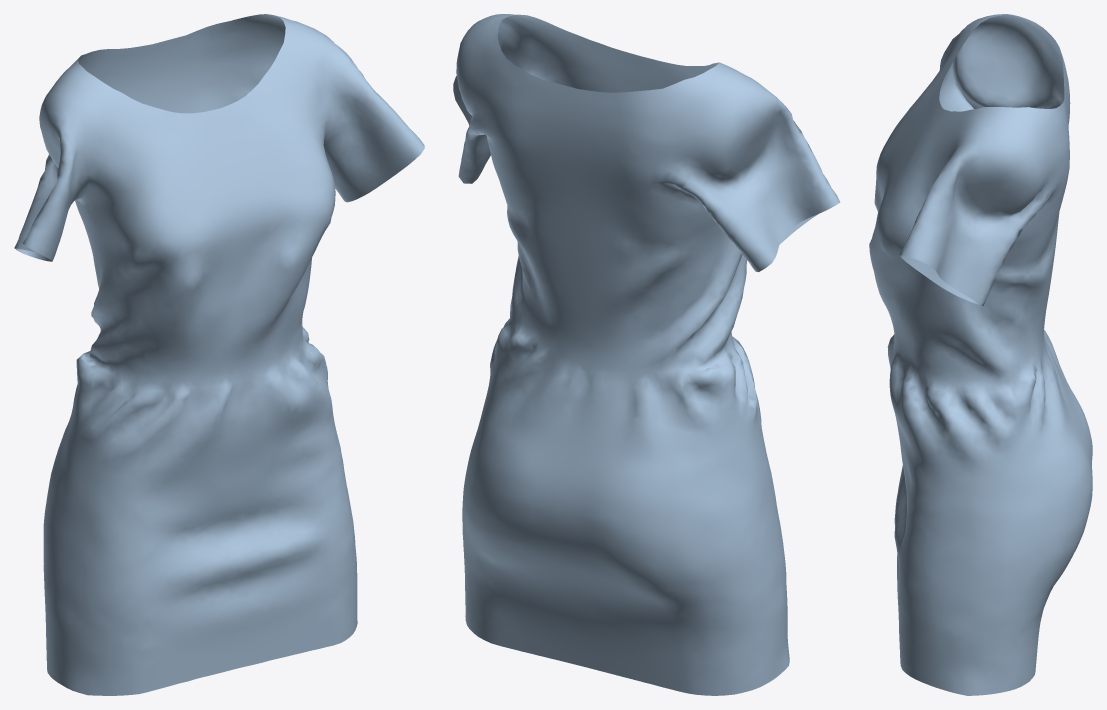
Rendered from dress_XS.glb.
3 views of the same model, side by side, from view 1: azimuth 30°, elevation 25°; view 2: azimuth 150°, elevation 25°; view 3: azimuth 270°, elevation 25° (orthographic). The views are drawn at different scales.
Parts seen in each view (by area): view 1: geometry_0; view 2: geometry_0; view 3: geometry_0.
Boxes of the visible parts, x1,y1,x2,y2 form: geometry_0: (14, 14, 424, 695); geometry_0: (453, 14, 840, 695); geometry_0: (869, 14, 1092, 695).
Bounding box in the file's own units: 0.4917 × 0.7279 × 0.2588.
